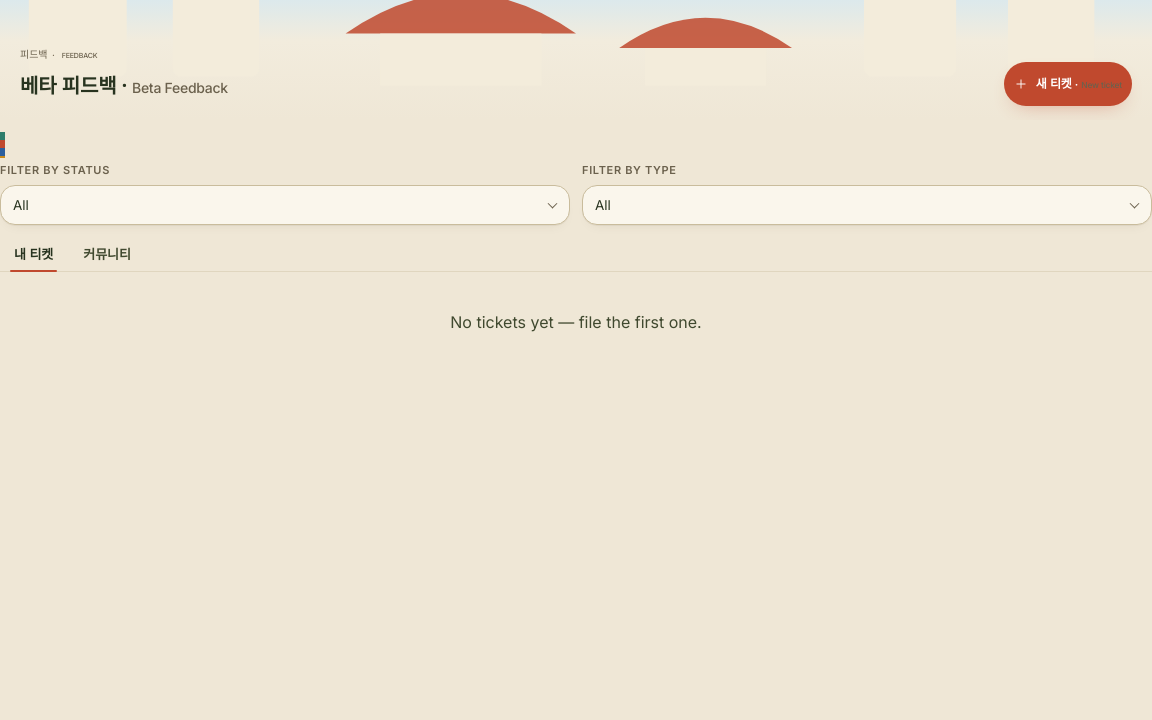
Test case: Tickets — filing a ticket › files a ticket and adds it to My tickets
Check: the text "No tickets yet — file the first one." is shown, box left=450, top=312, right=702, bottom=332
Click the button "새 티켓 · New ticket" at point(1068, 84), box left=1004, top=62, right=1132, bottom=106
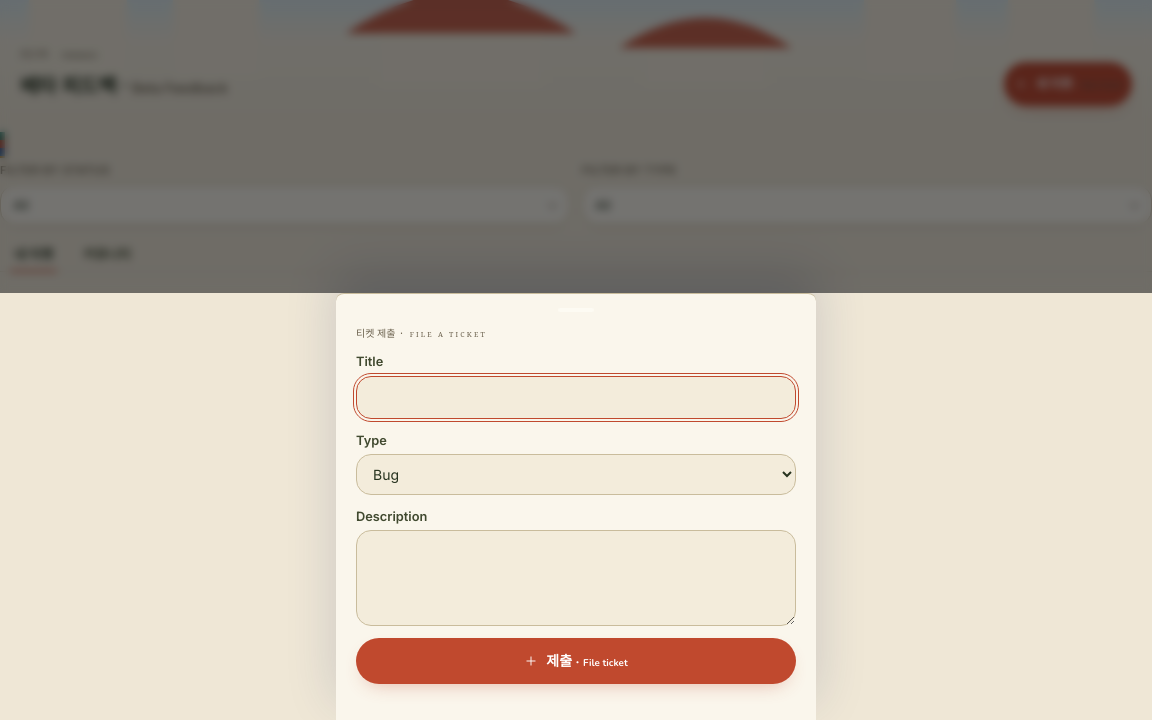
Select "Suggestion" in the dropdown labelled "Type" at point(576, 474), box left=356, top=454, right=796, bottom=495
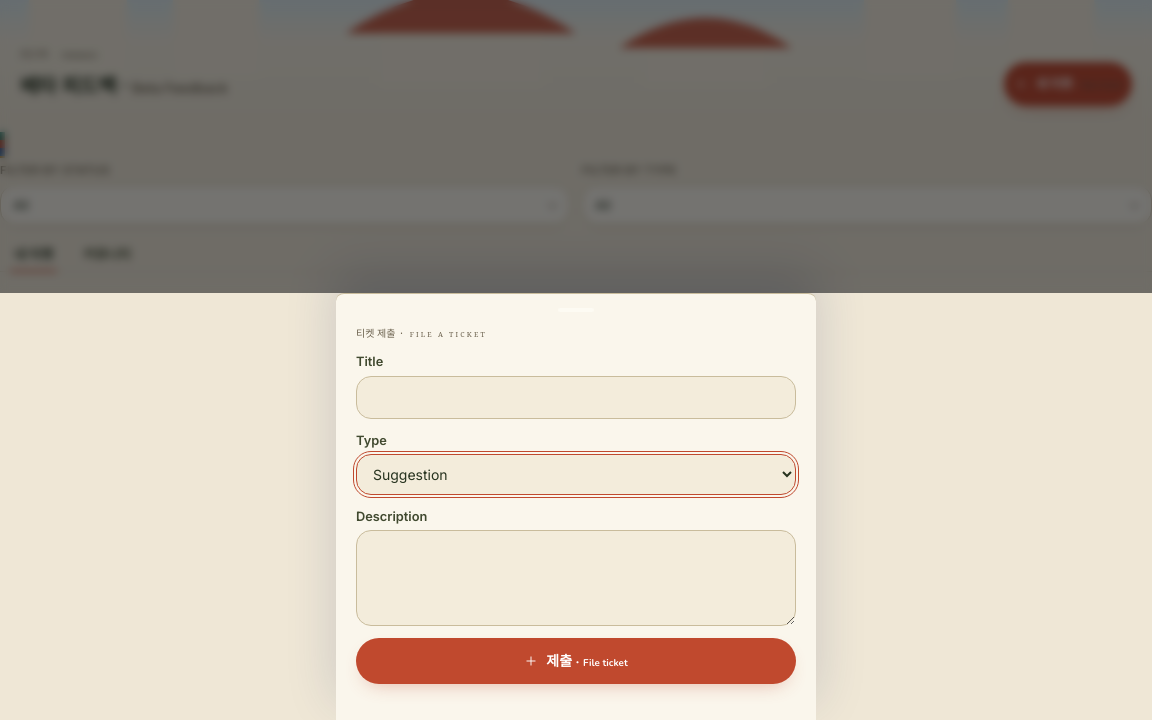
Type "Add export to CSV" into the field labelled "Title" at point(576, 397), box left=356, top=376, right=796, bottom=419
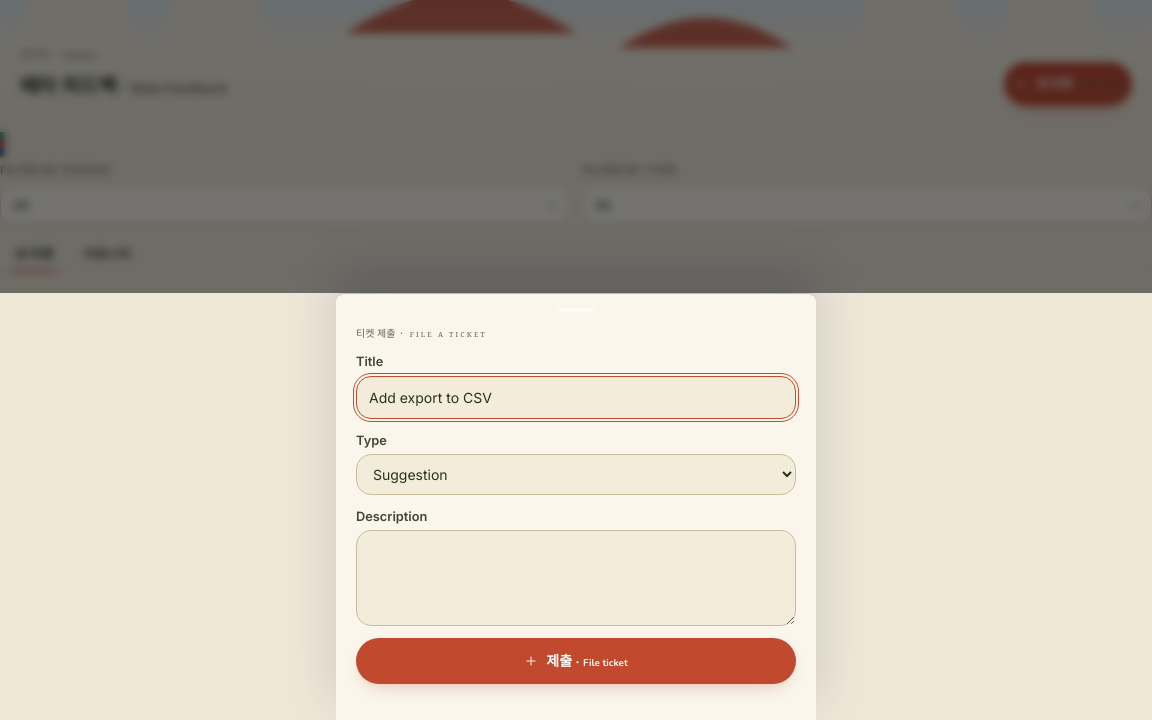
Type "Would help with tracking progress externally." into the text box labelled "Description" at point(576, 578), box left=356, top=530, right=796, bottom=626
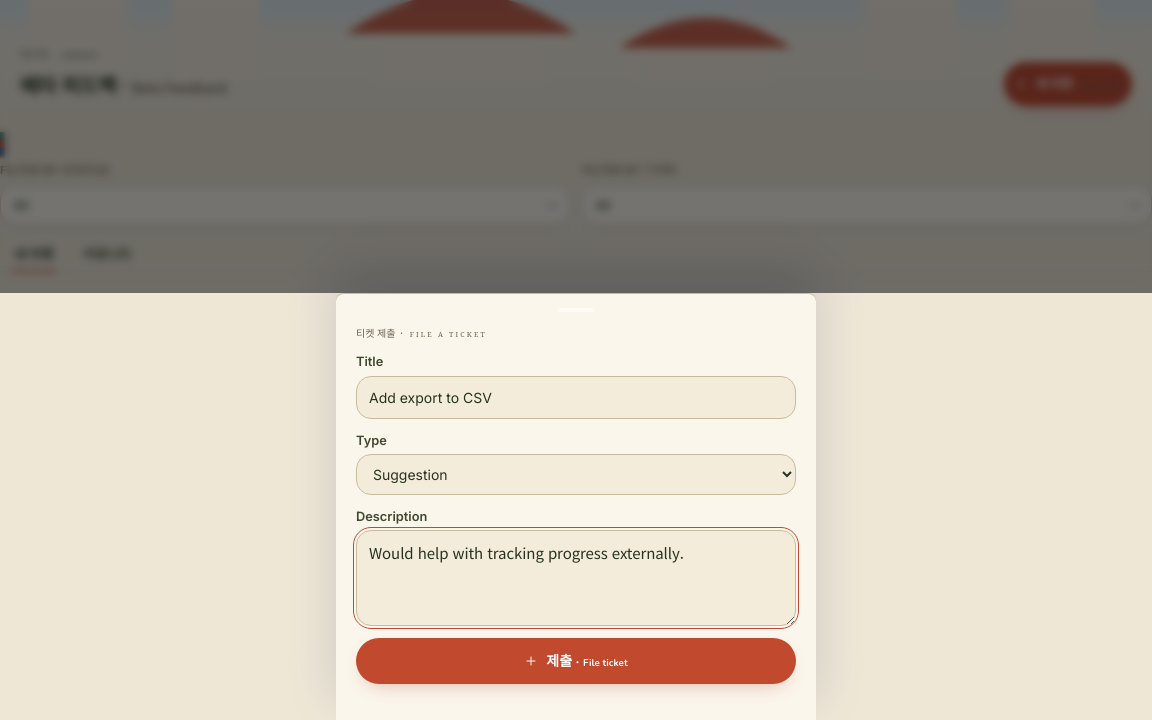
Click the button "제출 · File ticket" at point(576, 661), box left=356, top=638, right=796, bottom=684
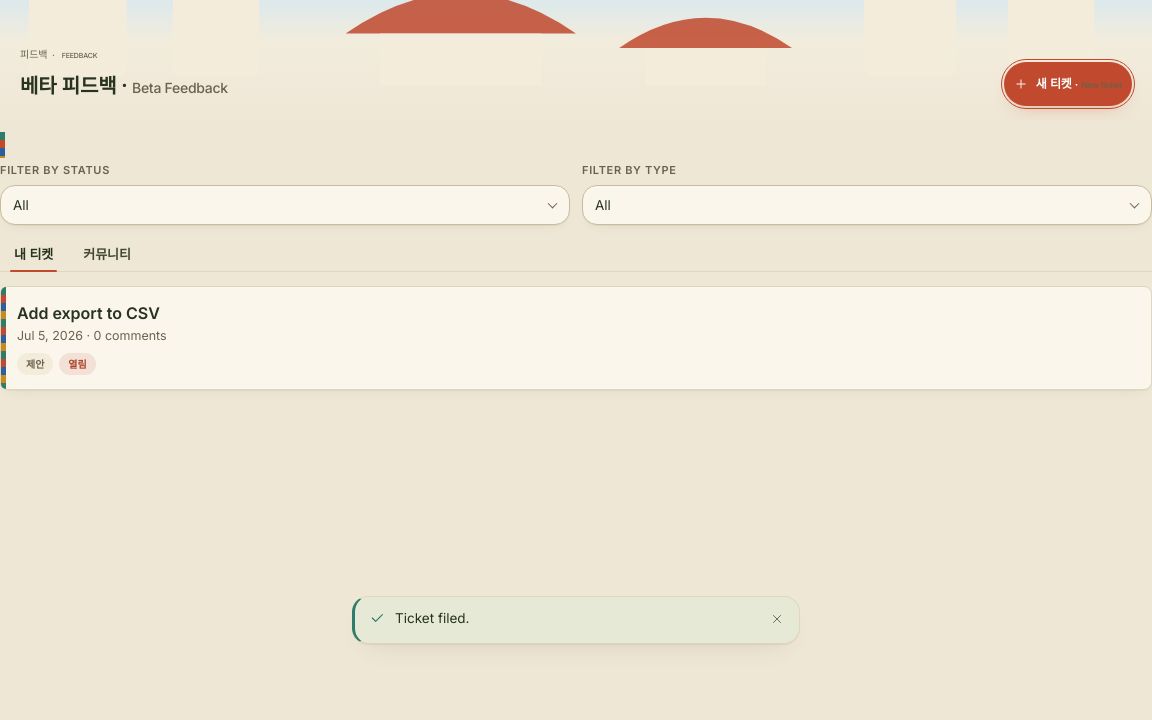
Check: the text "Add export to CSV" is shown, box left=17, top=303, right=160, bottom=323
Check: the text "Ticket filed." is shown, box left=395, top=610, right=470, bottom=626
Check: the label "Title" is gone
